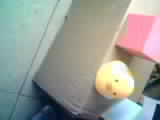duck: (97, 48, 144, 103)
